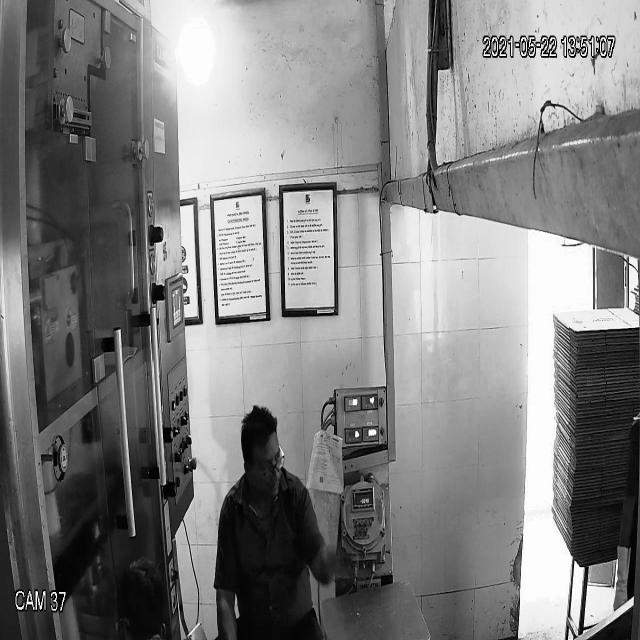glasses: (238, 448, 288, 480)
